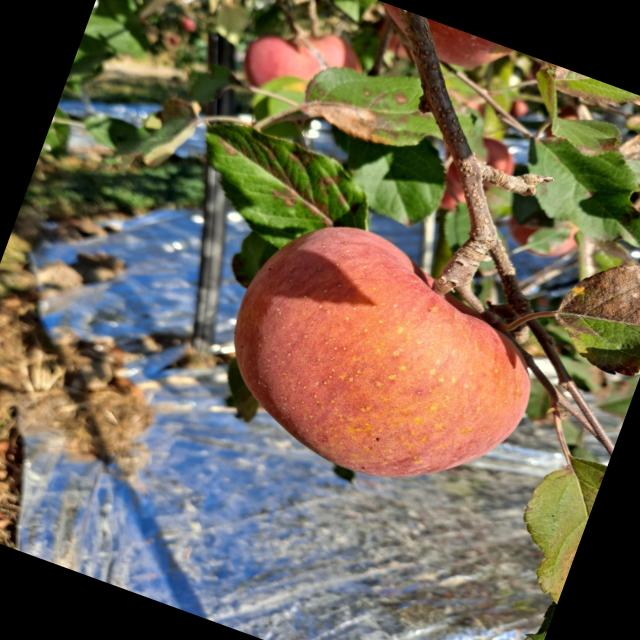fresh: (197, 195, 581, 537)
